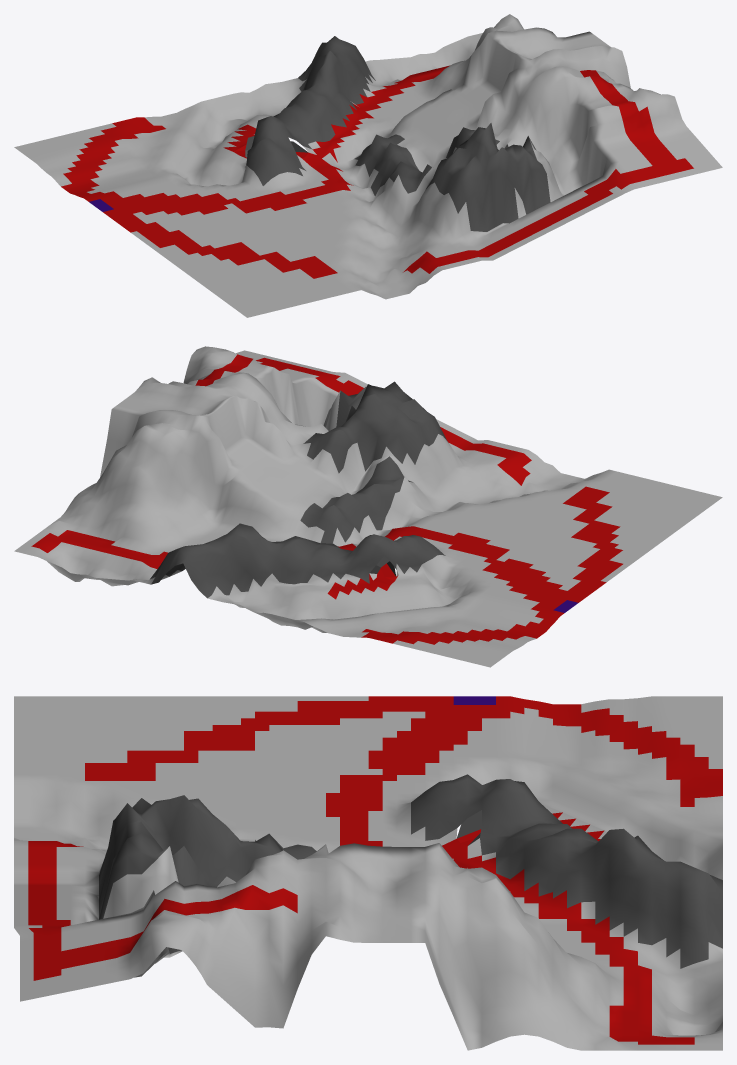
File: mappa2.fbx
3 views of the same model, one above another, from view 1: azimuth 30°, elevation 25°; view 2: azimuth 150°, elevation 25°; view 3: azimuth 270°, elevation 25° (orthographic). The views are drawn at different scales.
Visible parts, largest first — view 1: pPlane1; view 2: pPlane1; view 3: pPlane1.
Part boxes in pixels (x1,y1,x2,y2): pPlane1: (14,14,722,317); pPlane1: (14,346,722,667); pPlane1: (14,696,722,1050).
Bounding box in the file's own units: 28.58 × 6.55 × 24.16.
